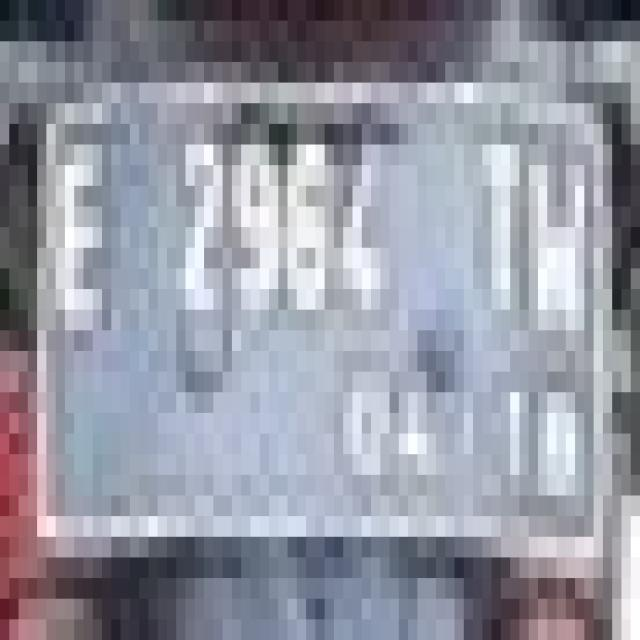plate: (28, 44, 612, 582)
